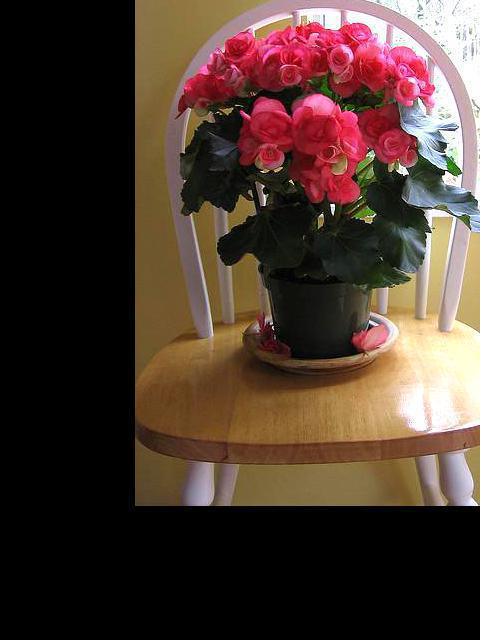Matera: (175, 0, 480, 379)
